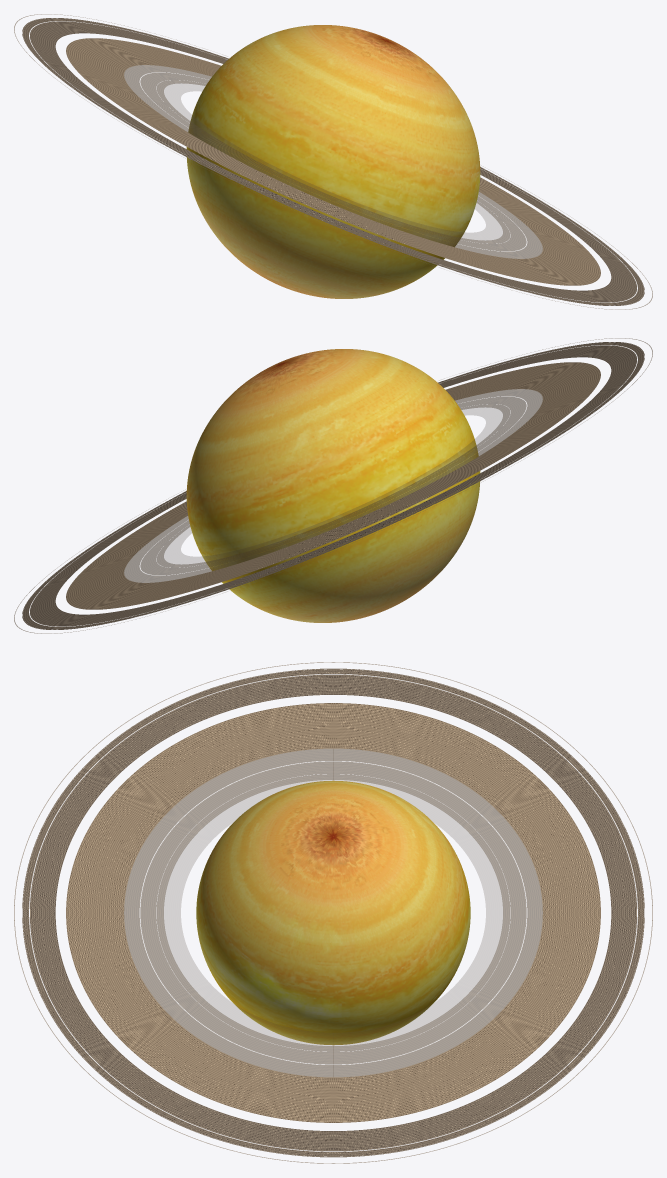
File: saturn.glb
3 renders of one model, top to bottom at view 1: azimuth 30°, elevation 25°; view 2: azimuth 150°, elevation 25°; view 3: azimuth 270°, elevation 25°, orthographic. The views are drawn at different scales.
Visible parts, largest first — view 1: Saturn • oblate gas giant.002, B ring.002, A ring • Encke and Keeler gaps.002, C ring • Colombo and Maxwell gaps.002, D ring.002, F ring.002; view 2: Saturn • oblate gas giant.002, B ring.002, A ring • Encke and Keeler gaps.002, C ring • Colombo and Maxwell gaps.002, D ring.002, F ring.002; view 3: B ring.002, Saturn • oblate gas giant.002, A ring • Encke and Keeler gaps.002, C ring • Colombo and Maxwell gaps.002, D ring.002, F ring.002.
Boxes of the visible parts, bbox=[...] form: Saturn • oblate gas giant.002: bbox=[186, 25, 480, 298]; B ring.002: bbox=[66, 38, 600, 285]; A ring • Encke and Keeler gaps.002: bbox=[22, 18, 644, 305]; C ring • Colombo and Maxwell gaps.002: bbox=[124, 65, 542, 258]; D ring.002: bbox=[164, 84, 502, 239]; F ring.002: bbox=[14, 14, 652, 309]; Saturn • oblate gas giant.002: bbox=[186, 349, 480, 622]; B ring.002: bbox=[66, 362, 600, 609]; A ring • Encke and Keeler gaps.002: bbox=[22, 342, 644, 629]; C ring • Colombo and Maxwell gaps.002: bbox=[124, 389, 542, 582]; D ring.002: bbox=[164, 408, 502, 563]; F ring.002: bbox=[14, 338, 652, 633]; B ring.002: bbox=[66, 703, 600, 1122]; Saturn • oblate gas giant.002: bbox=[196, 780, 470, 1045]; A ring • Encke and Keeler gaps.002: bbox=[22, 668, 644, 1157]; C ring • Colombo and Maxwell gaps.002: bbox=[124, 748, 542, 1077]; D ring.002: bbox=[164, 780, 502, 1045]; F ring.002: bbox=[14, 662, 652, 1163].
Size of the model in its own units: 4.16 by 2.1 by 4.66.
6 materials, 6 textured.
